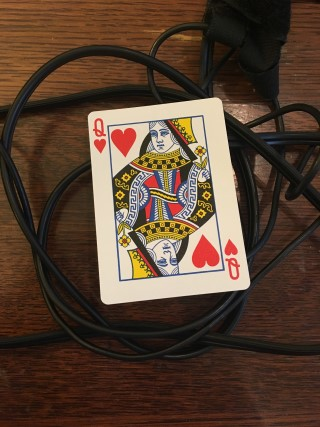QueenOfHearts: (87, 97, 250, 306)
